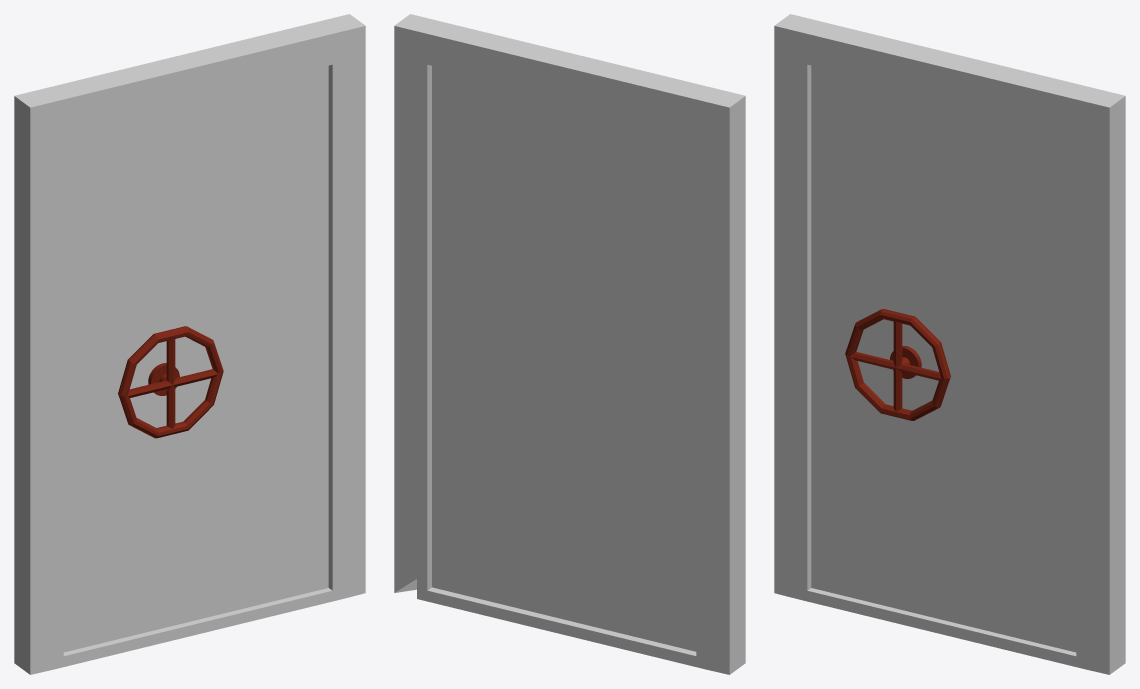
Rendered from BUNKER DOOR.fbx.
3 renders of one model, left to right at view 1: azimuth 30°, elevation 25°; view 2: azimuth 150°, elevation 25°; view 3: azimuth 330°, elevation 25°, orthographic.
Visible parts, largest first — view 1: DOOR, DOOR FRAME, DOOR WHEEL; view 2: DOOR, DOOR FRAME; view 3: DOOR, DOOR FRAME, DOOR WHEEL.
Part boxes in pixels (box(x1,y1,x2,y2)): DOOR: box(53, 51, 342, 669); DOOR FRAME: box(14, 14, 365, 674); DOOR WHEEL: box(118, 326, 223, 438); DOOR: box(417, 51, 706, 669); DOOR FRAME: box(394, 14, 745, 674); DOOR: box(797, 51, 1086, 669); DOOR FRAME: box(774, 14, 1125, 674); DOOR WHEEL: box(845, 309, 950, 420).
Bounding box in the file's own units: 679 × 1098 × 94.88.
